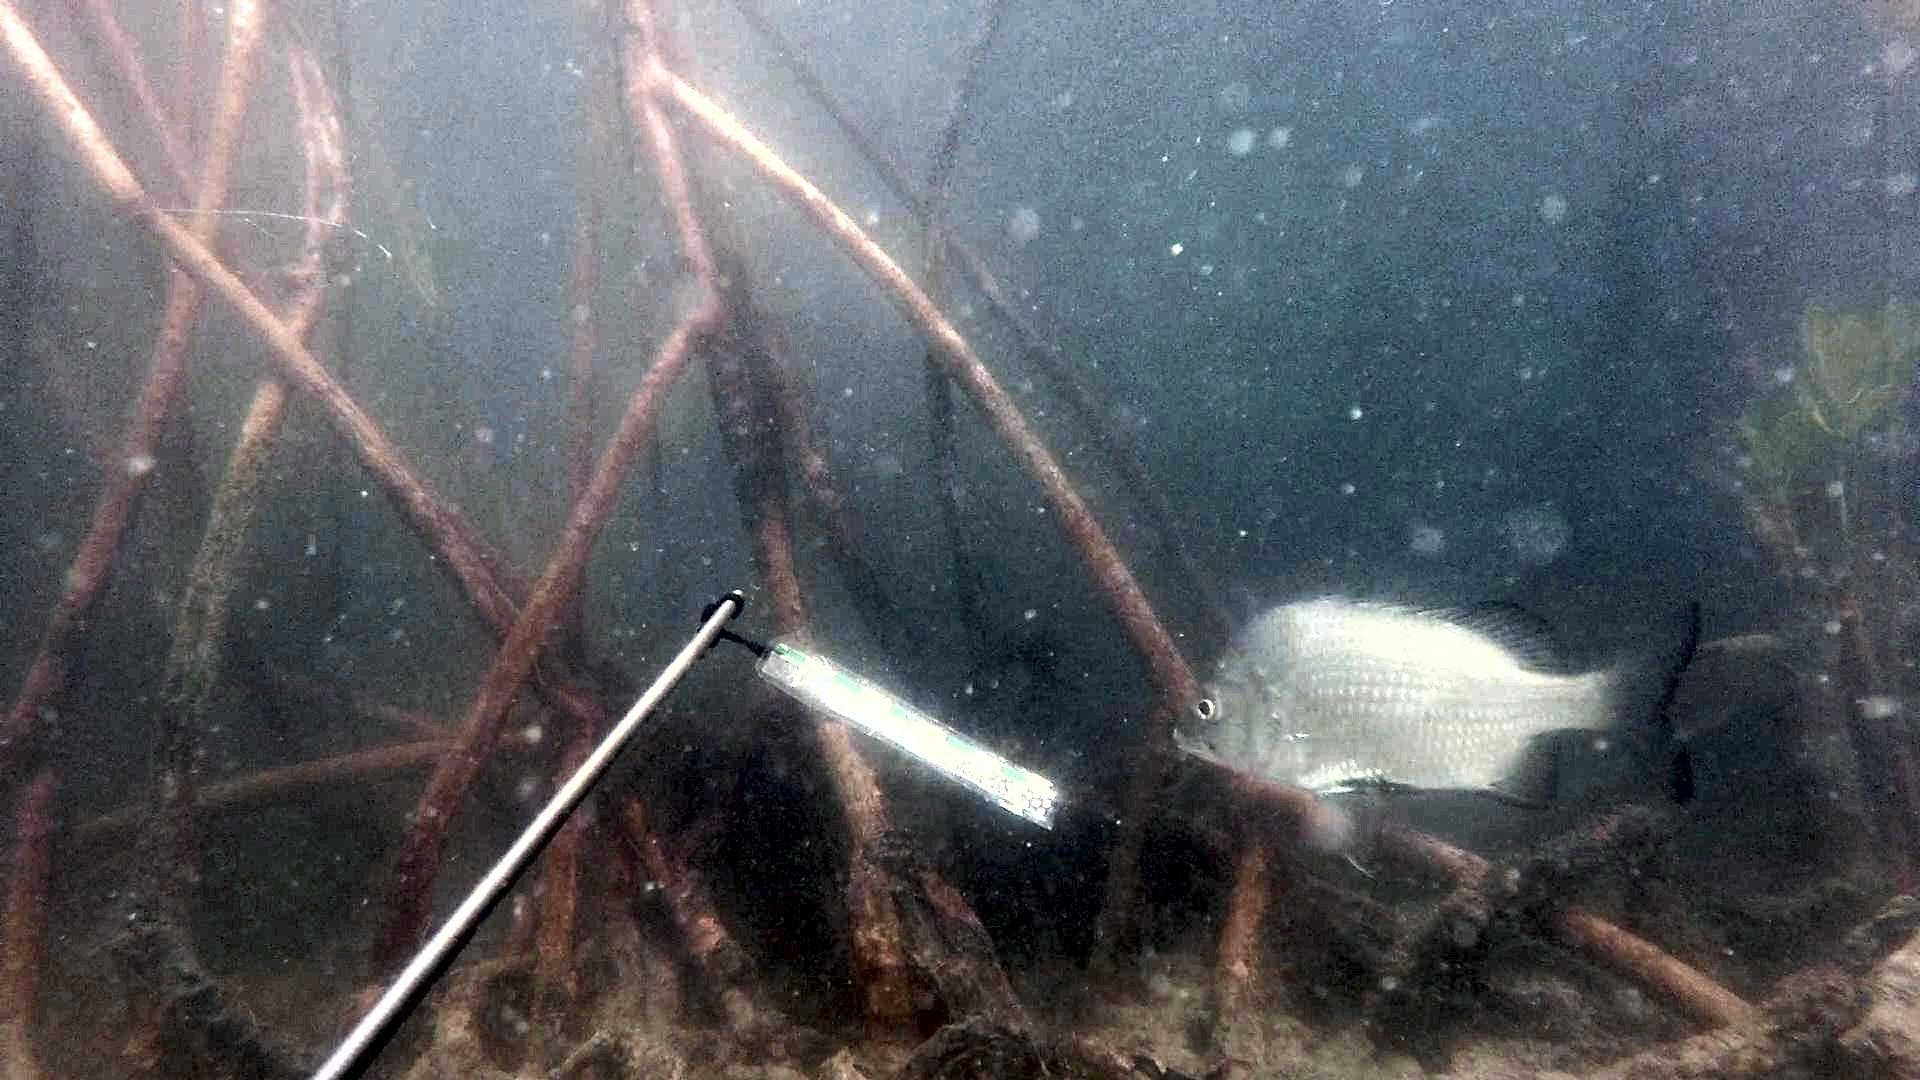acanthopagrus palmaris: (1158, 585, 1722, 885)
